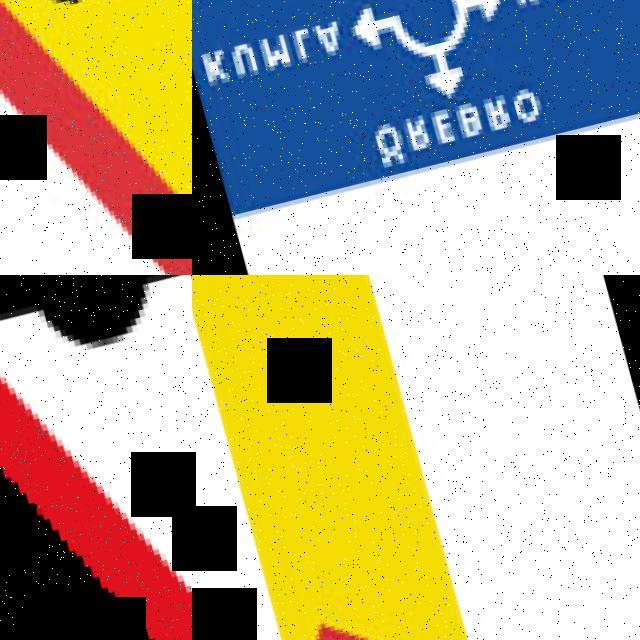136: (0, 0, 192, 275)
4: (192, 275, 510, 640)
83: (192, 0, 640, 224)
Uneven road: (0, 275, 192, 640)
